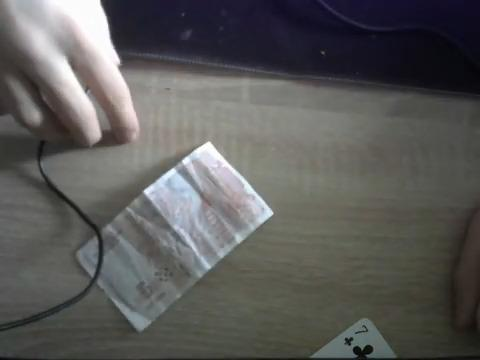5leva: (73, 142, 274, 334)
